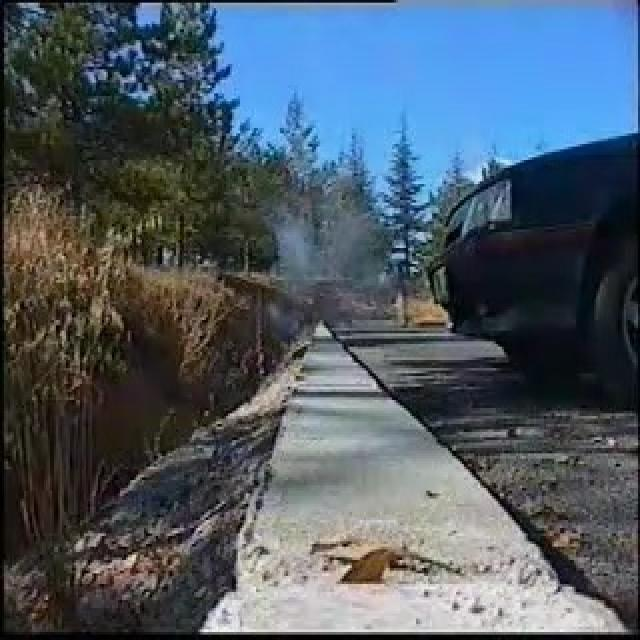smoke: (275, 234, 346, 352)
